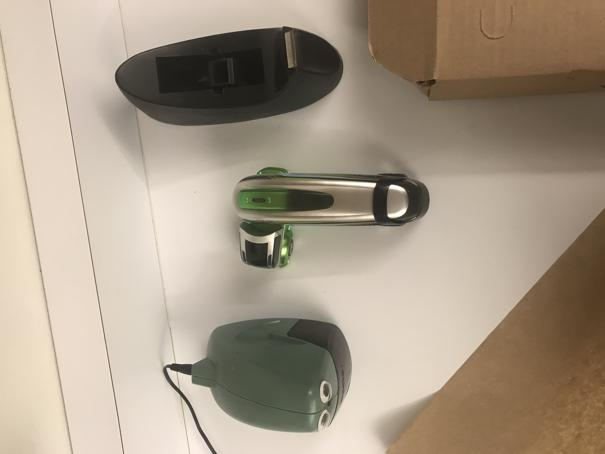Freewheel: (232, 166, 432, 269)
